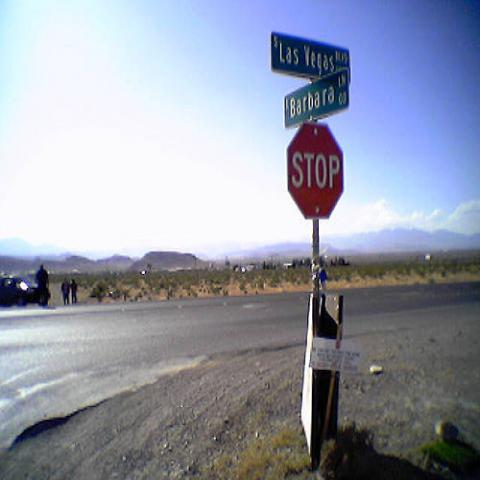car: (1, 273, 40, 306)
